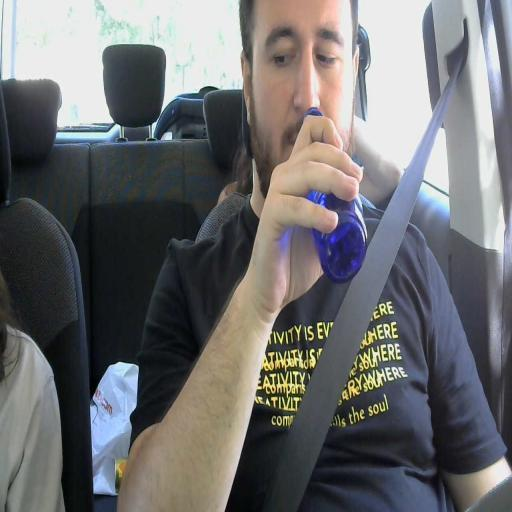Drinking: (241, 0, 369, 283)
